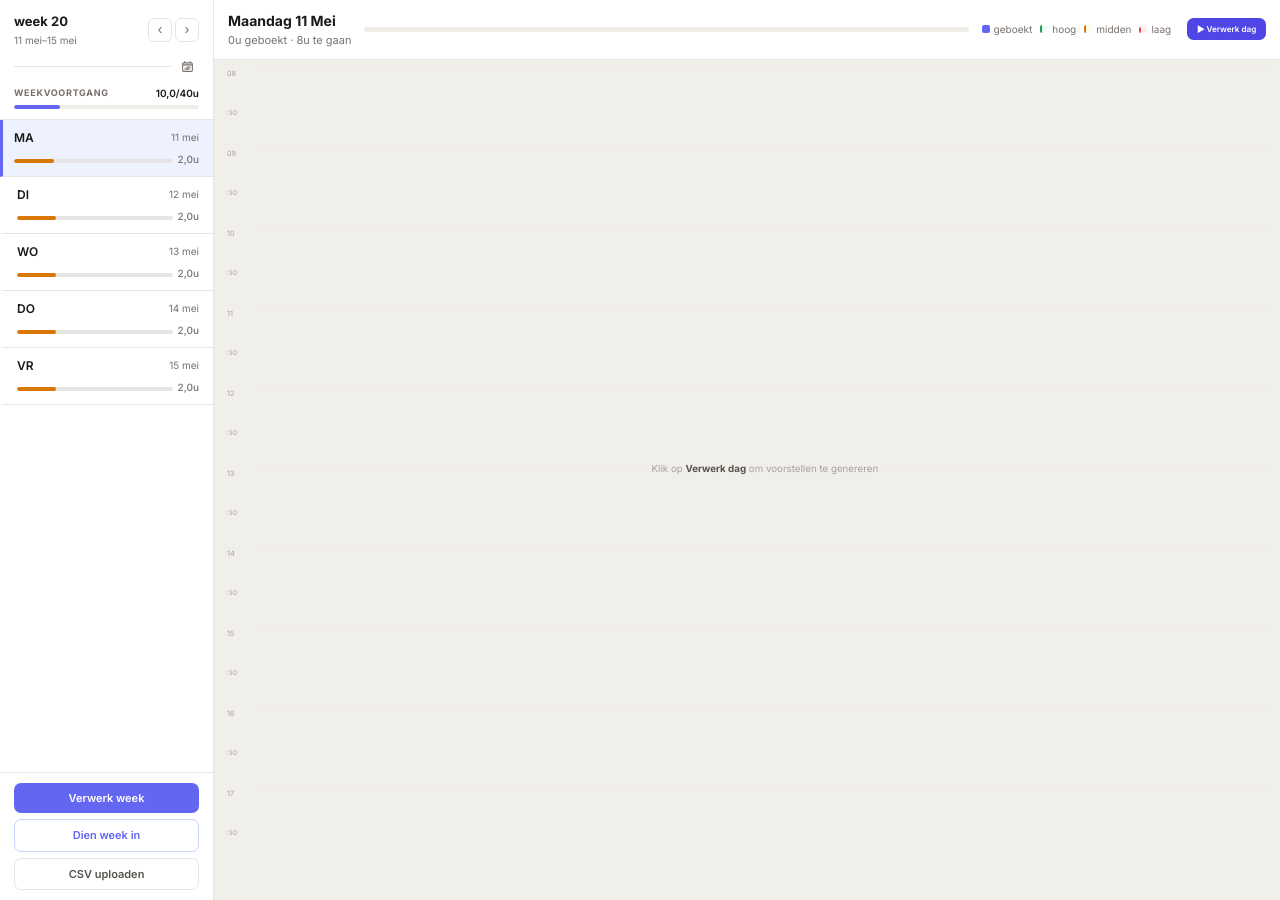
it: process week › handles error phase with missing error message
This screenshot has width=1280, height=900.
Click the button with test id "process-week".
click(106, 798)  # box [14,782,199,813]
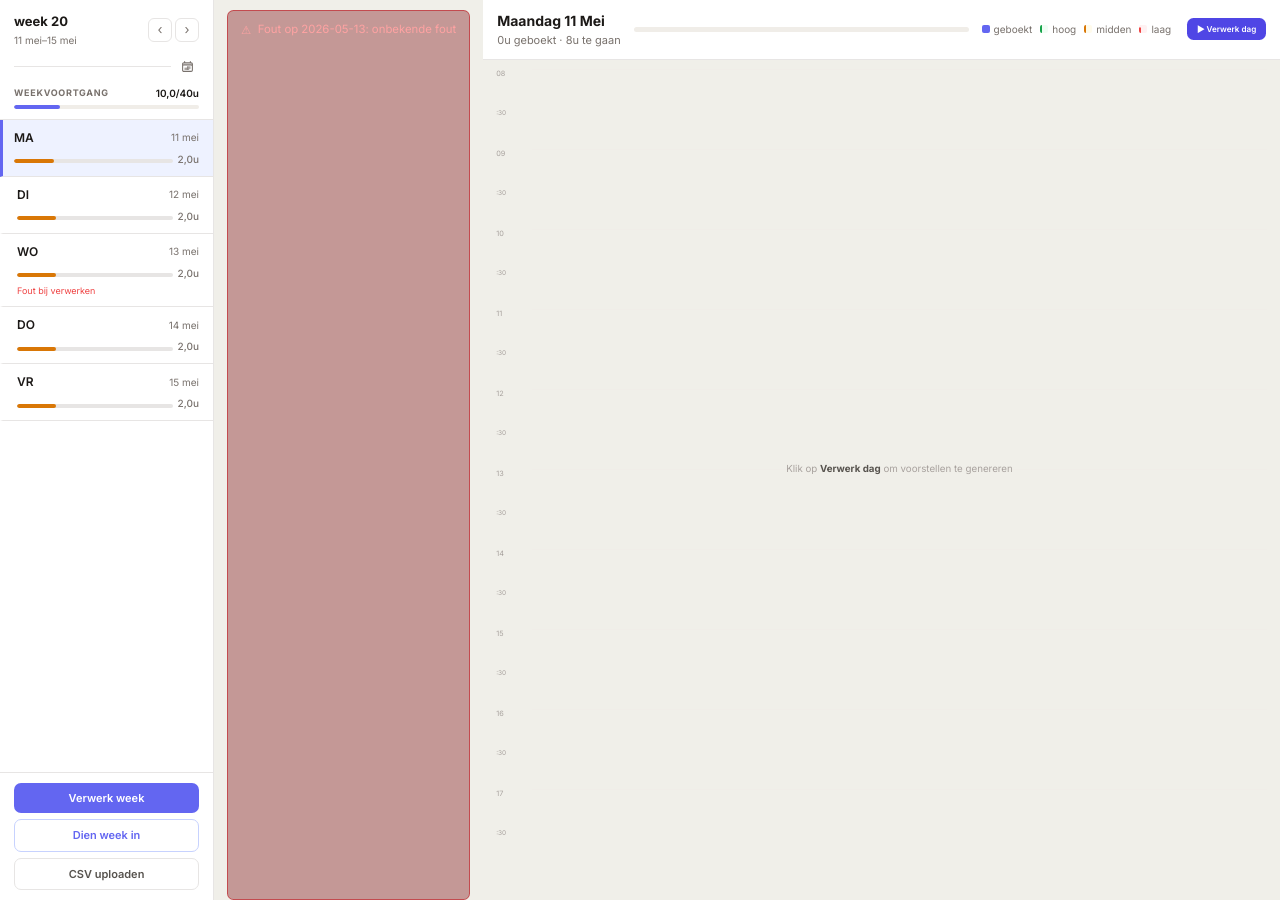
Expected: the text "Fout op 2026-05-13: onbekende fout" is shown, [258,20,456,37]
